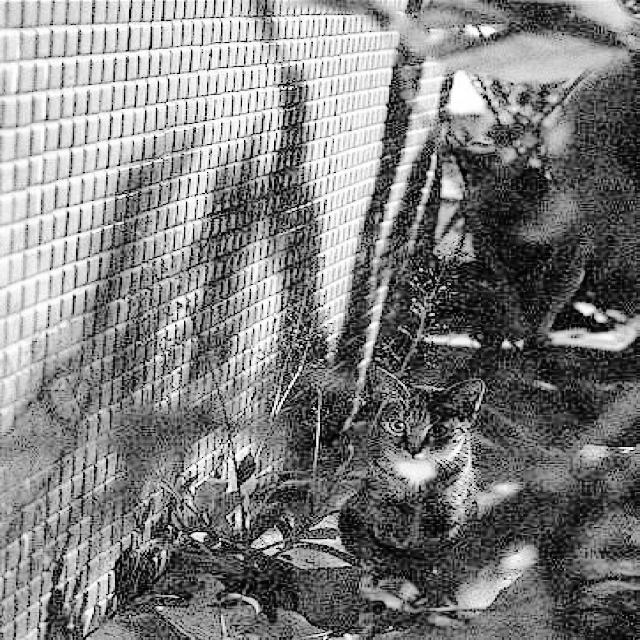Cat: (325, 332, 565, 598)
